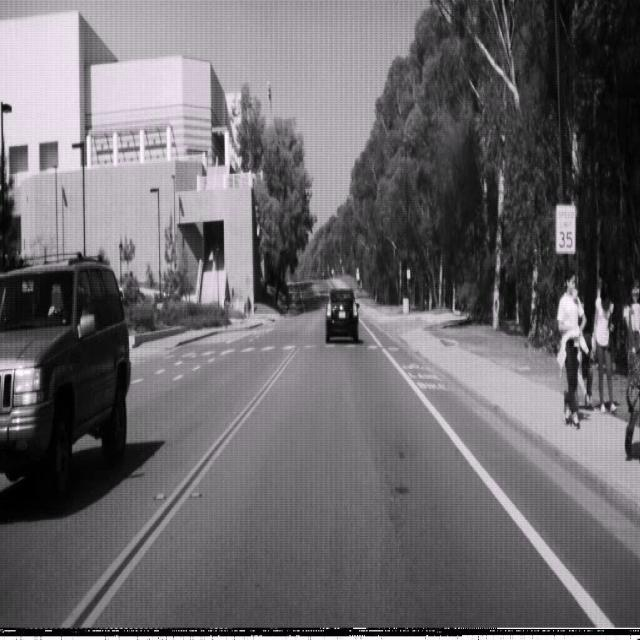speedLimit35: (555, 203, 576, 254)
